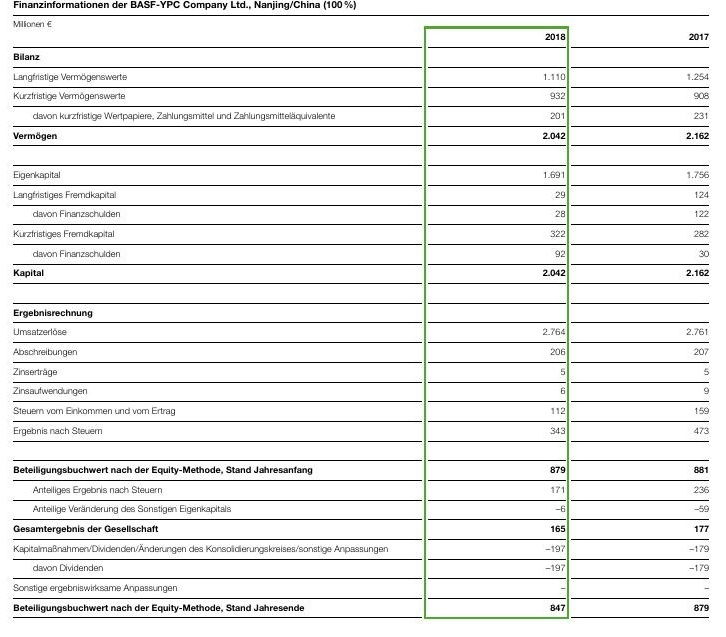table: (0, 0, 726, 637)
